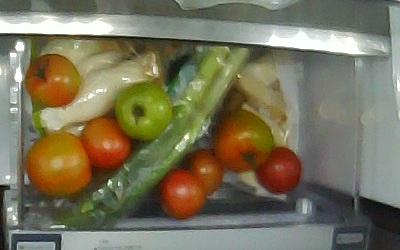tomato: (25, 130, 92, 195), (211, 108, 273, 171), (113, 80, 172, 139), (24, 53, 80, 107), (79, 114, 132, 169), (157, 167, 206, 218), (254, 145, 301, 194), (181, 151, 223, 195)
